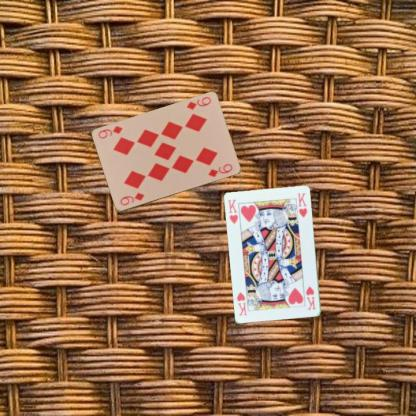9d: (117, 190, 146, 207), (184, 94, 212, 111)
Kh: (225, 197, 240, 225), (303, 284, 317, 311)
